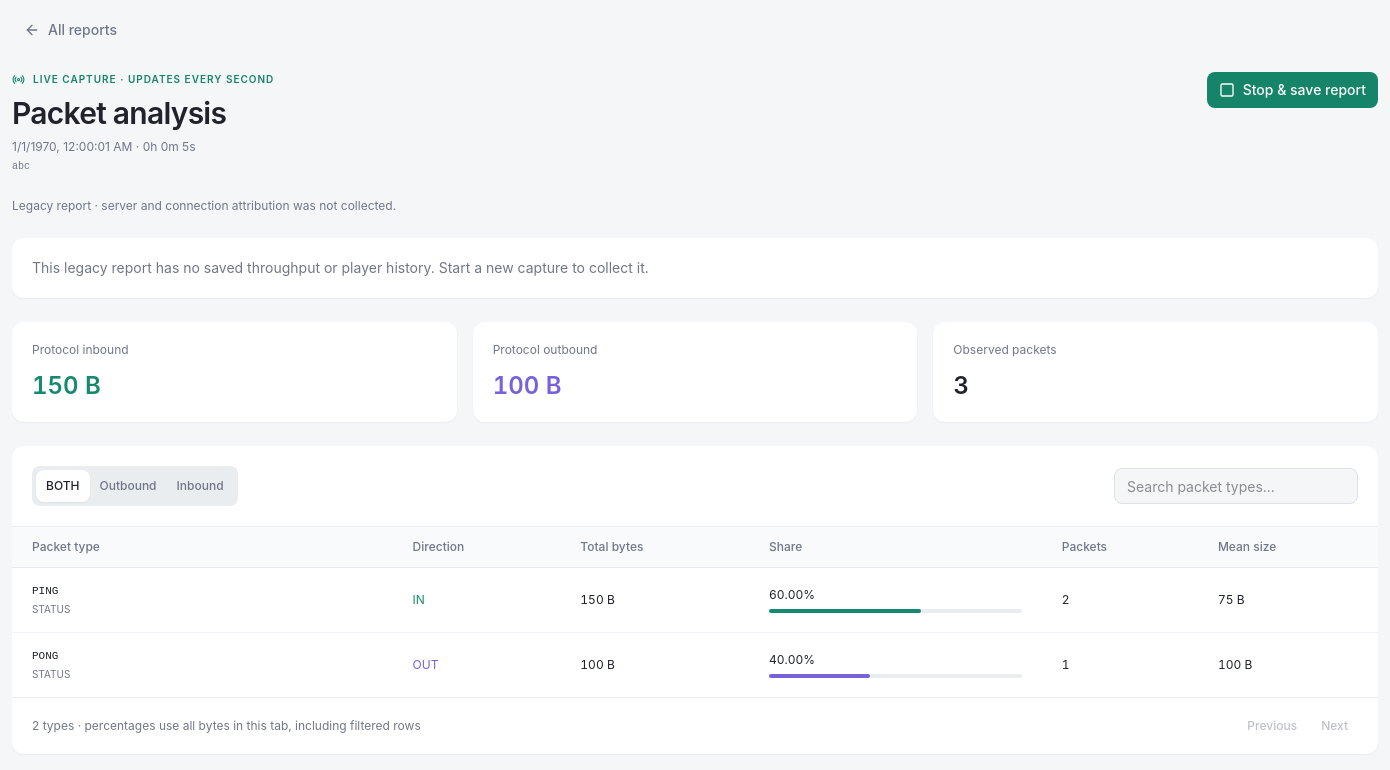
Test: shows accumulated byte shares per direction and finalizes without inventing transport totals
Expected: the text "PING" is shown, top-left (32, 585), bottom-right (58, 597)
Expected: the text "60.00%" is shown, top-left (769, 587), bottom-right (815, 602)
Click the tab "Inbound".
click(200, 486)  # box top-left (166, 470), bottom-right (234, 502)
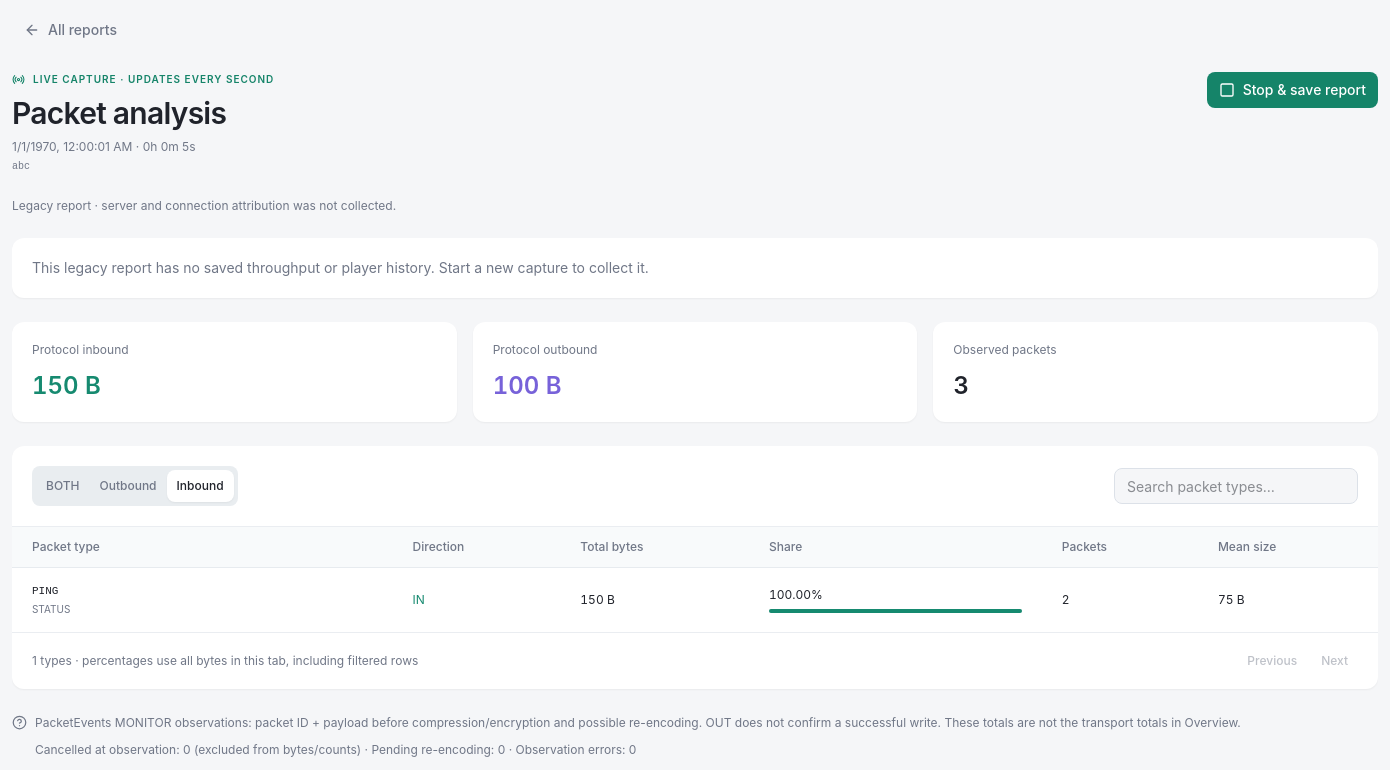
Expected: the text "PONG" is gone
Expected: the text "100.00%" is shown, top-left (769, 587), bottom-right (823, 602)
Click the tab "Outbound".
click(128, 486)  # box top-left (90, 470), bottom-right (166, 502)
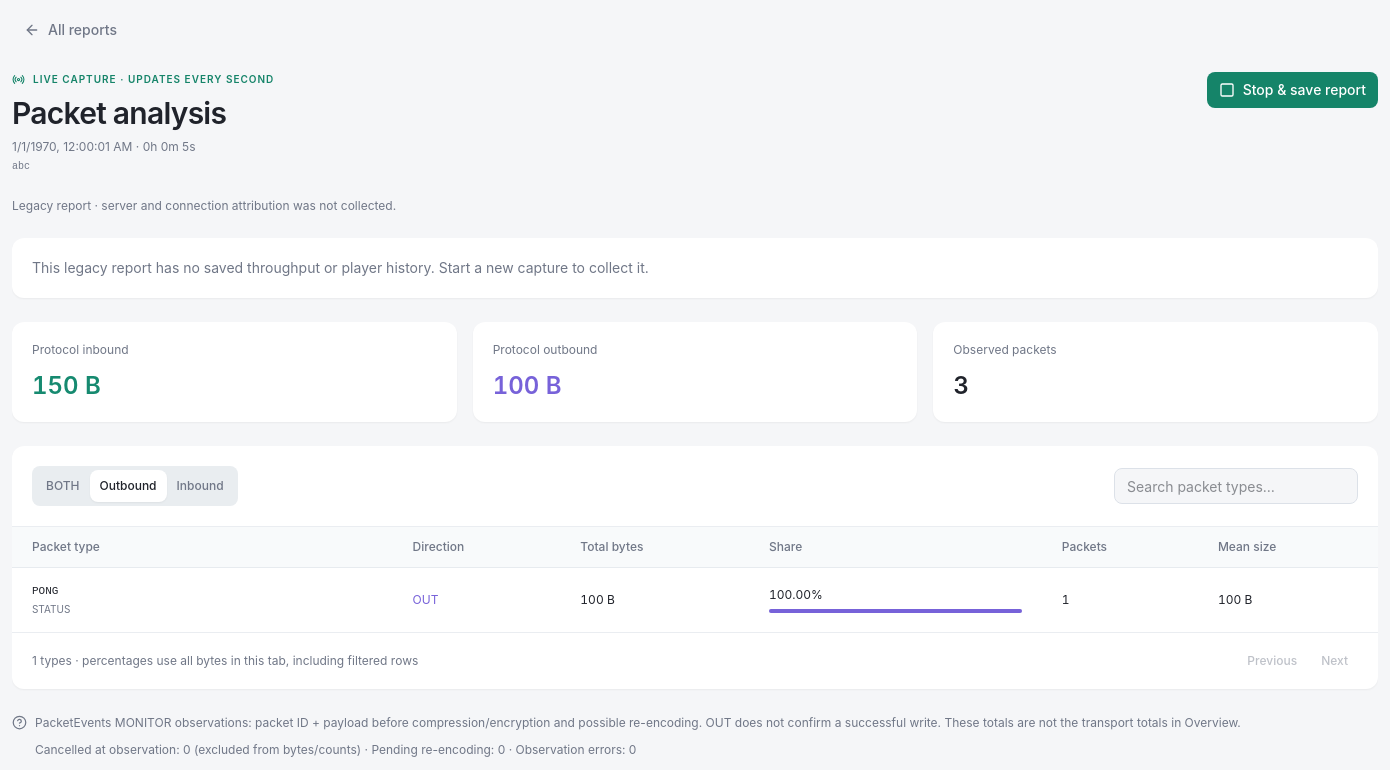
Expected: the text "PING" is gone
Expected: the text "PONG" is shown, top-left (32, 585), bottom-right (58, 597)
Click the button "Stop & save report".
click(1292, 90)  # box top-left (1207, 72), bottom-right (1378, 108)
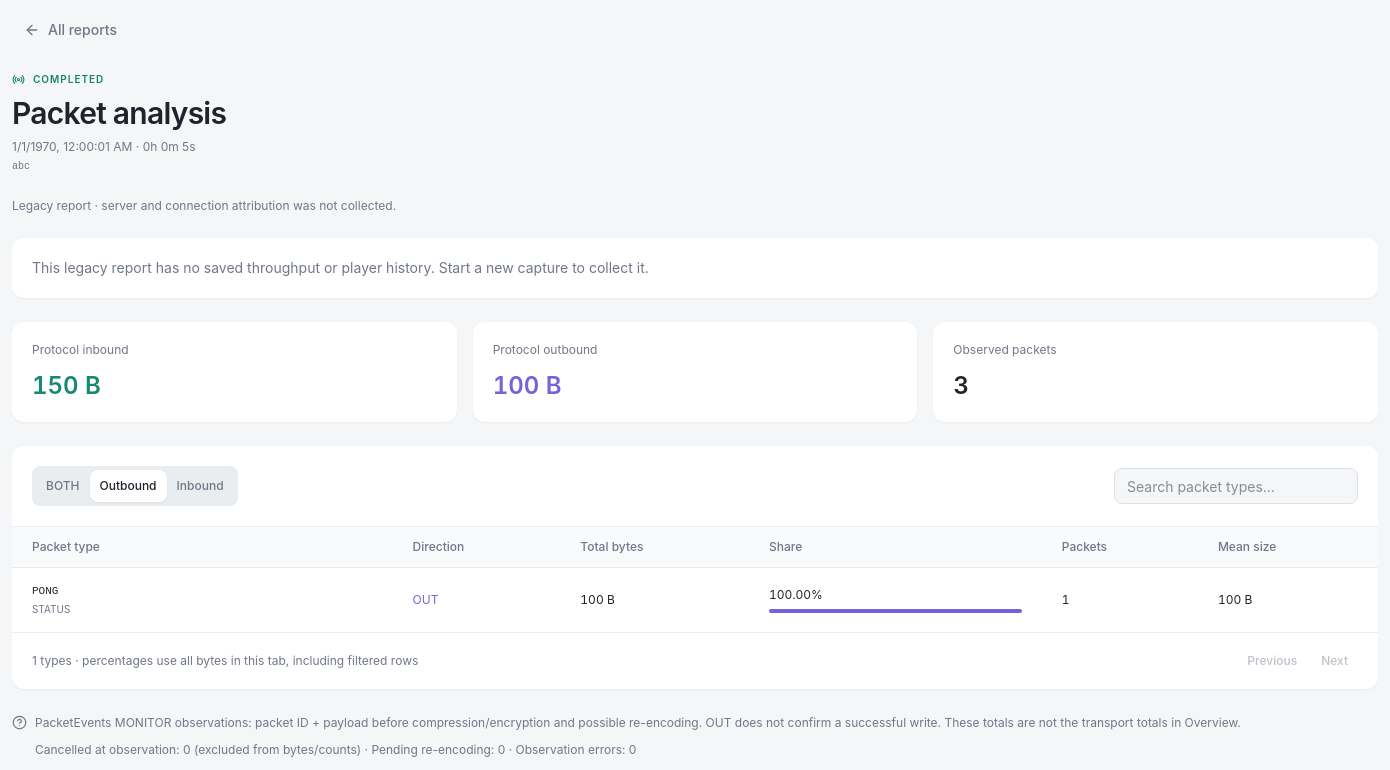
Expected: the text "OUT does not confirm a successful write" is shown, top-left (35, 715), bottom-right (1241, 730)
Expected: the text "COMPLETED" is shown, top-left (12, 73), bottom-right (104, 86)
Expected: the button "Stop & save report" is gone
